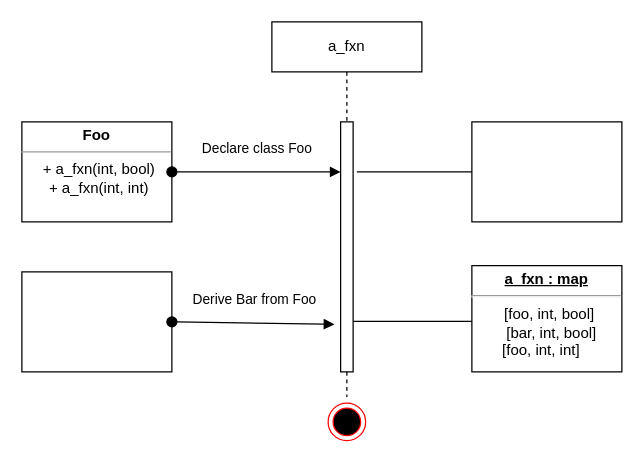
This 644x463 diagram has some shape labels left out. The centre of each missing label's shape, as x and y in pixels:
"a_fxn : map [foo, int, bool] [foo, int, int]" goes at [546,171].
"Bar + a_fxn(int, bool)" goes at [96,321].
